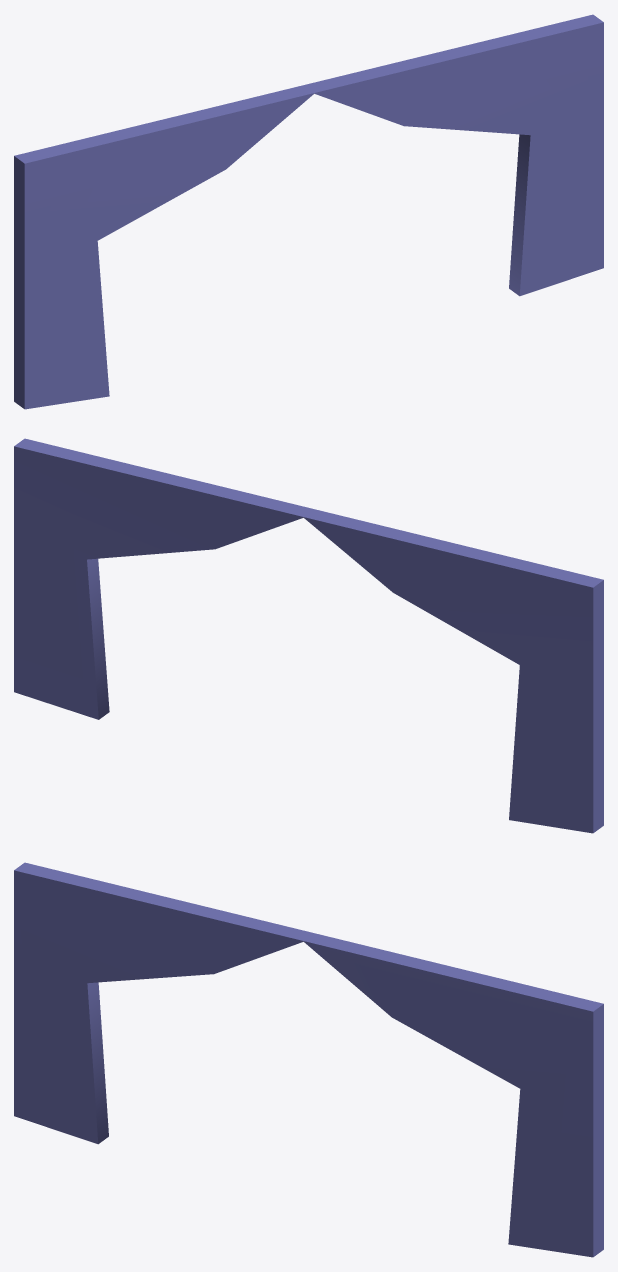
Rendered from sm_Curtains.fbx.
The picture shows the model from 3 angles, top to bottom: view 1: azimuth 30°, elevation 25°; view 2: azimuth 150°, elevation 25°; view 3: azimuth 330°, elevation 25°; orthographic projection.
Visible parts, largest first — view 1: sm_Curtains; view 2: sm_Curtains; view 3: sm_Curtains.
Boxes of the visible parts, left/top/right/bottom form: sm_Curtains: left=14, top=14, right=603, bottom=409; sm_Curtains: left=14, top=438, right=603, bottom=833; sm_Curtains: left=14, top=862, right=603, bottom=1257.
Bounding box in the file's own units: 3.11 × 1.3 × 0.1072.
